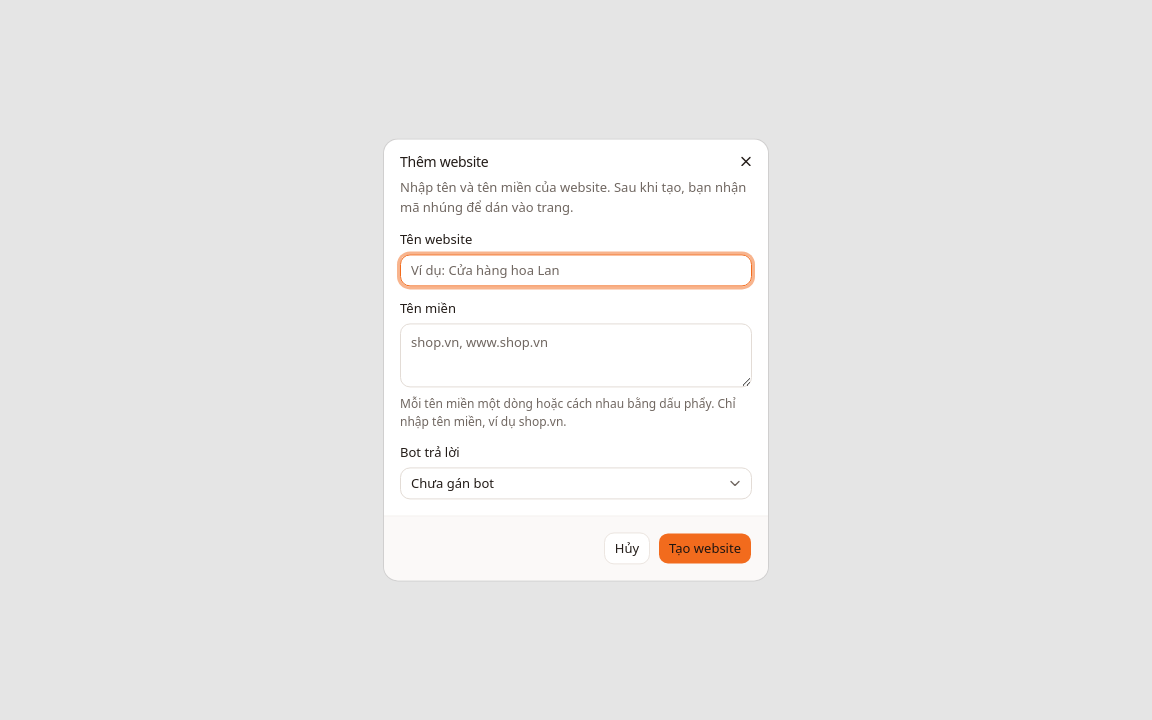
WebsiteCreateDialog › rejects a domain with a scheme and path and does not submit
Step 1. Type "Shop" into the field labelled "Tên website" → (576, 270), box [400,254,752,286]
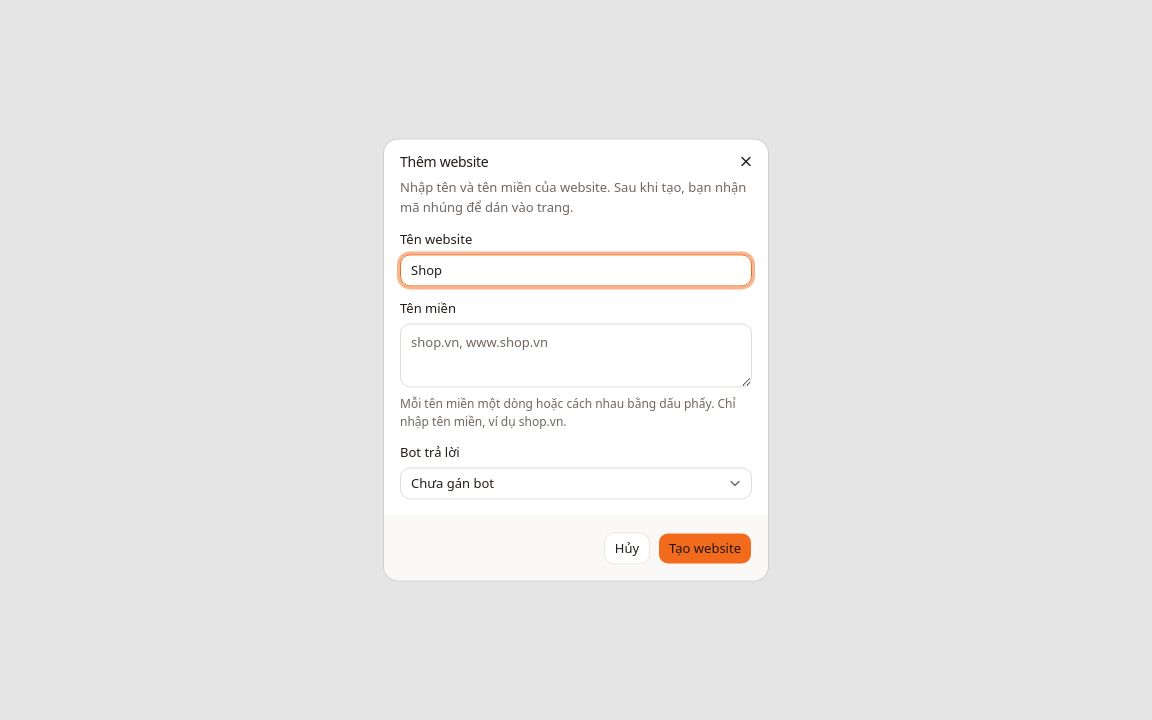
Step 2. Type "https://x.vn/a" into the text box labelled "Tên miền" → (576, 355), box [400,323,752,387]
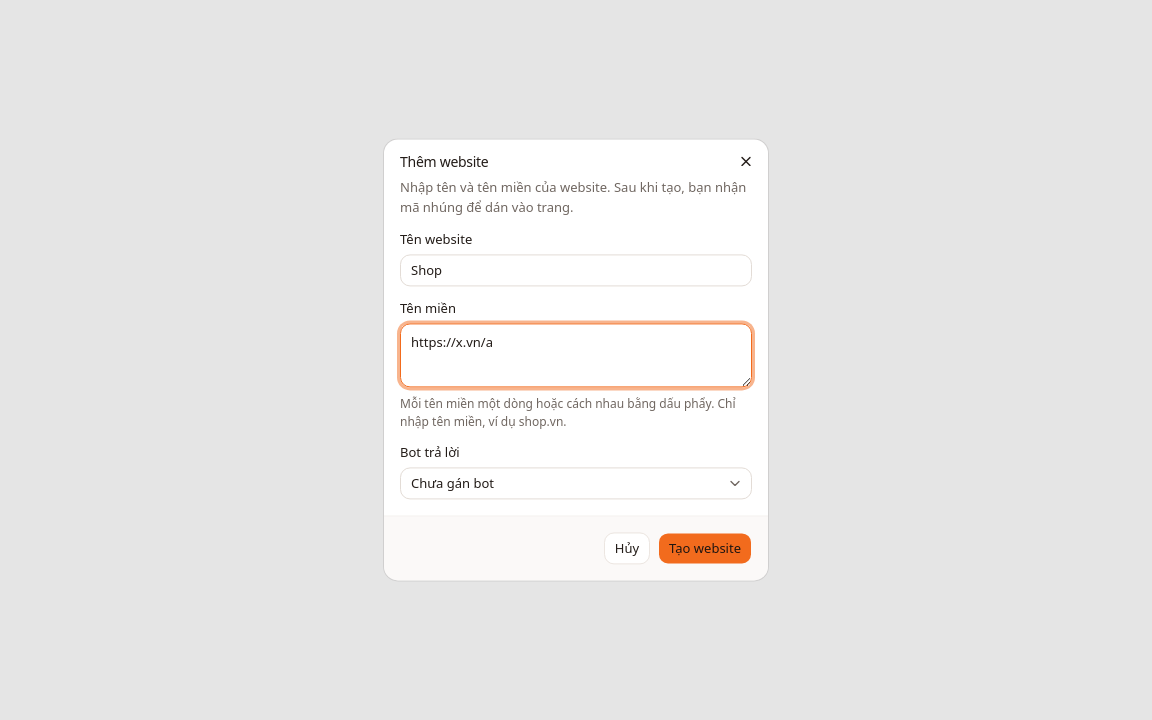
Step 3. Click the button "Tạo website" → (705, 549), box [658,533,752,565]
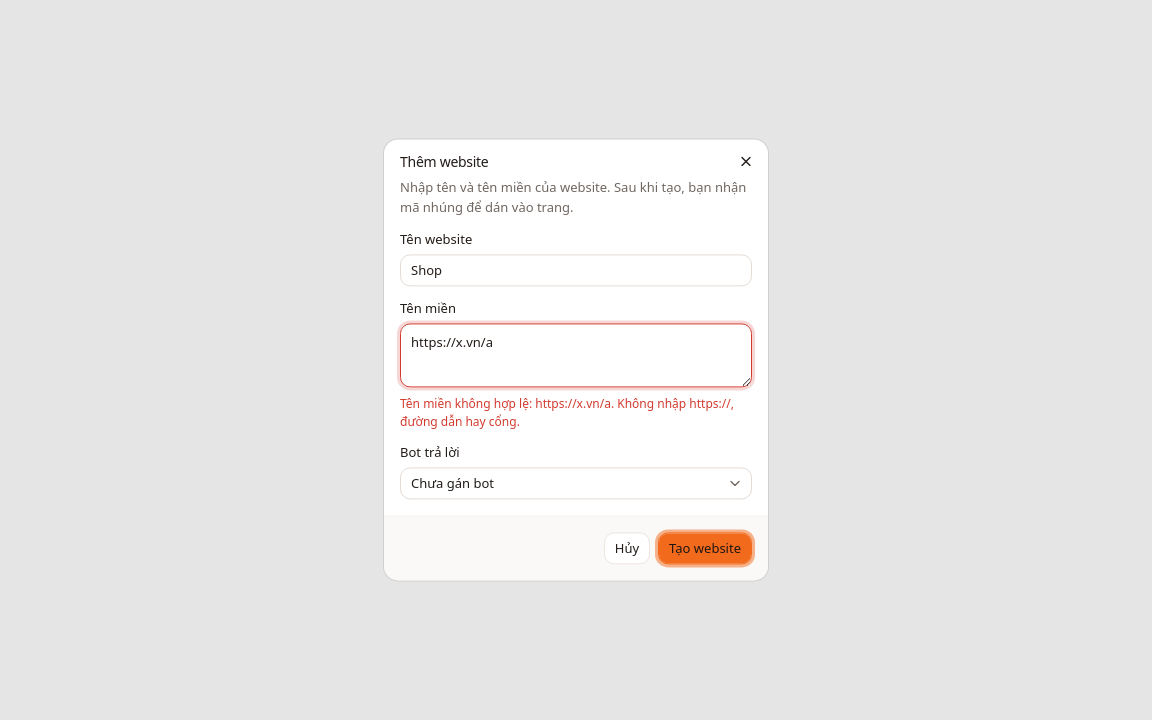
Expected: the text "Tên miền không hợp lệ: https://x.vn/a" is shown, [400,395,734,430]
